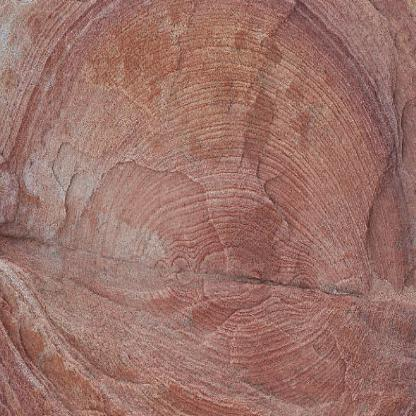Sedimentary_Sandstone: (4, 0, 416, 415)
